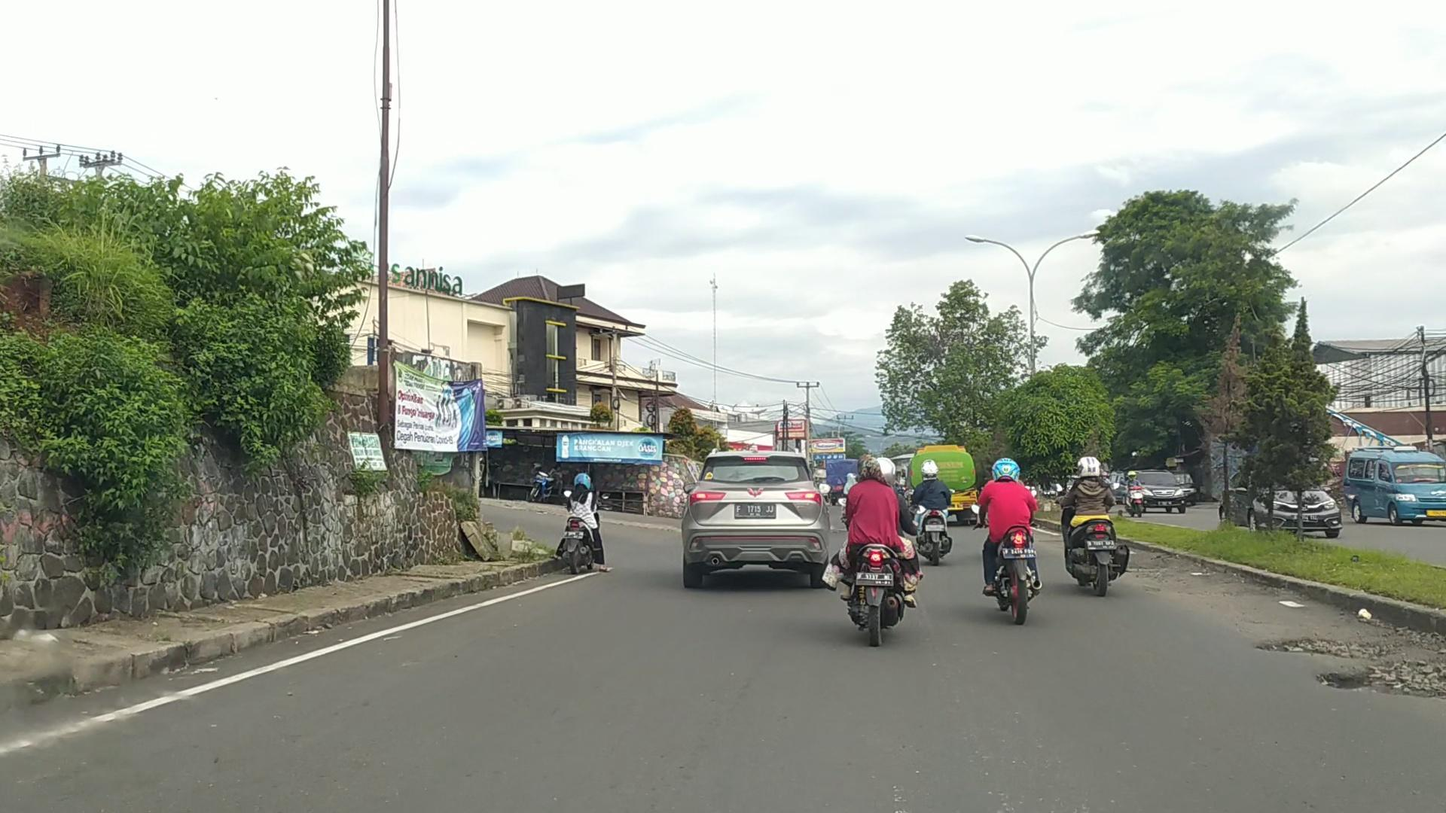pothole: (1256, 619, 1446, 699)
